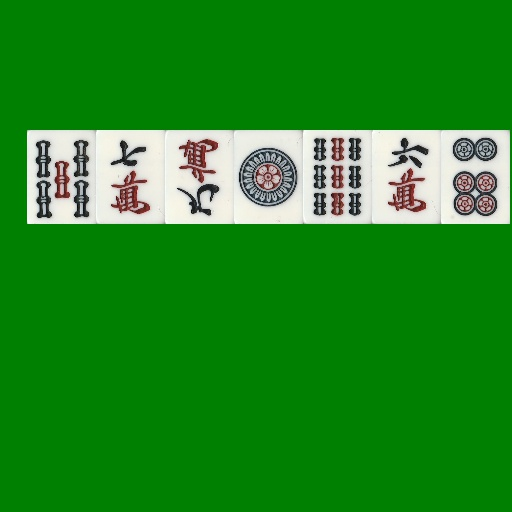1p: (234, 130, 303, 224)
5s: (27, 130, 96, 224)
6m: (372, 130, 441, 224)
6p: (441, 130, 510, 224)
7m: (96, 130, 165, 224)
9m: (165, 130, 234, 224)
9s: (303, 130, 372, 224)
